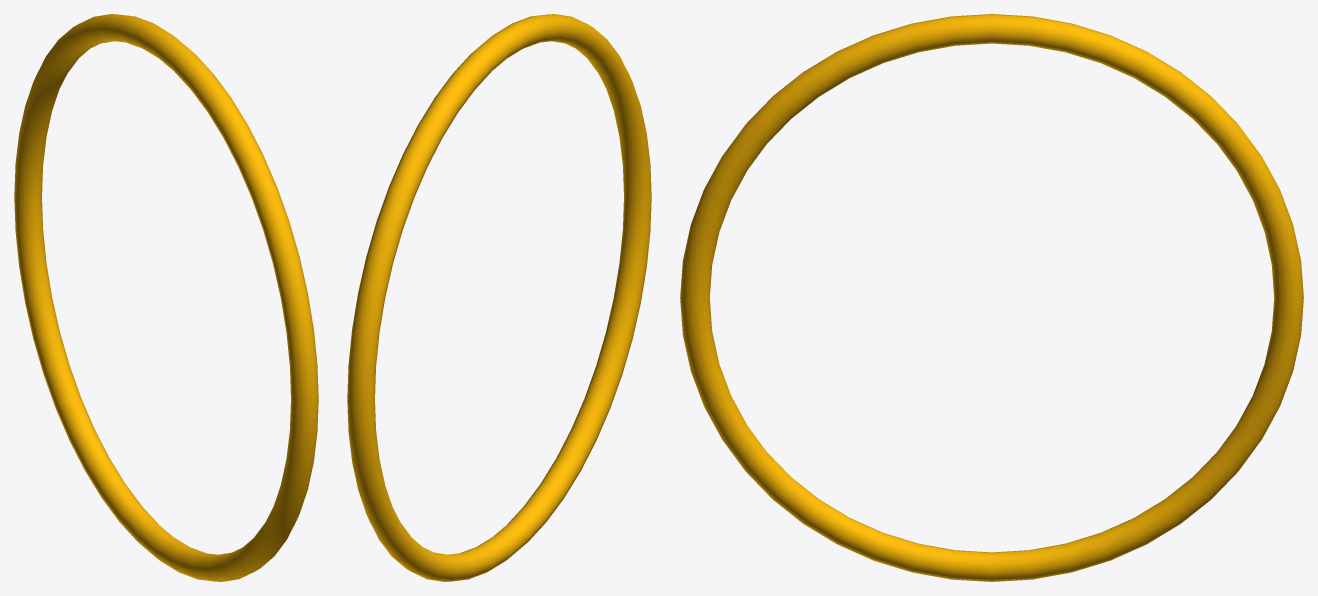
Rendered from Ring.fbx.
The picture shows the model from 3 angles, left to right: view 1: azimuth 30°, elevation 25°; view 2: azimuth 150°, elevation 25°; view 3: azimuth 270°, elevation 25°; orthographic projection. The views are drawn at different scales.
Parts seen in each view (by area): view 1: Torus; view 2: Torus; view 3: Torus.
Boxes of the visible parts, x1,y1,x2,y2 form: Torus: (14, 14, 318, 581); Torus: (347, 14, 651, 581); Torus: (680, 14, 1303, 581).
Bounding box in the file's own units: 140 × 2940 × 2940.
